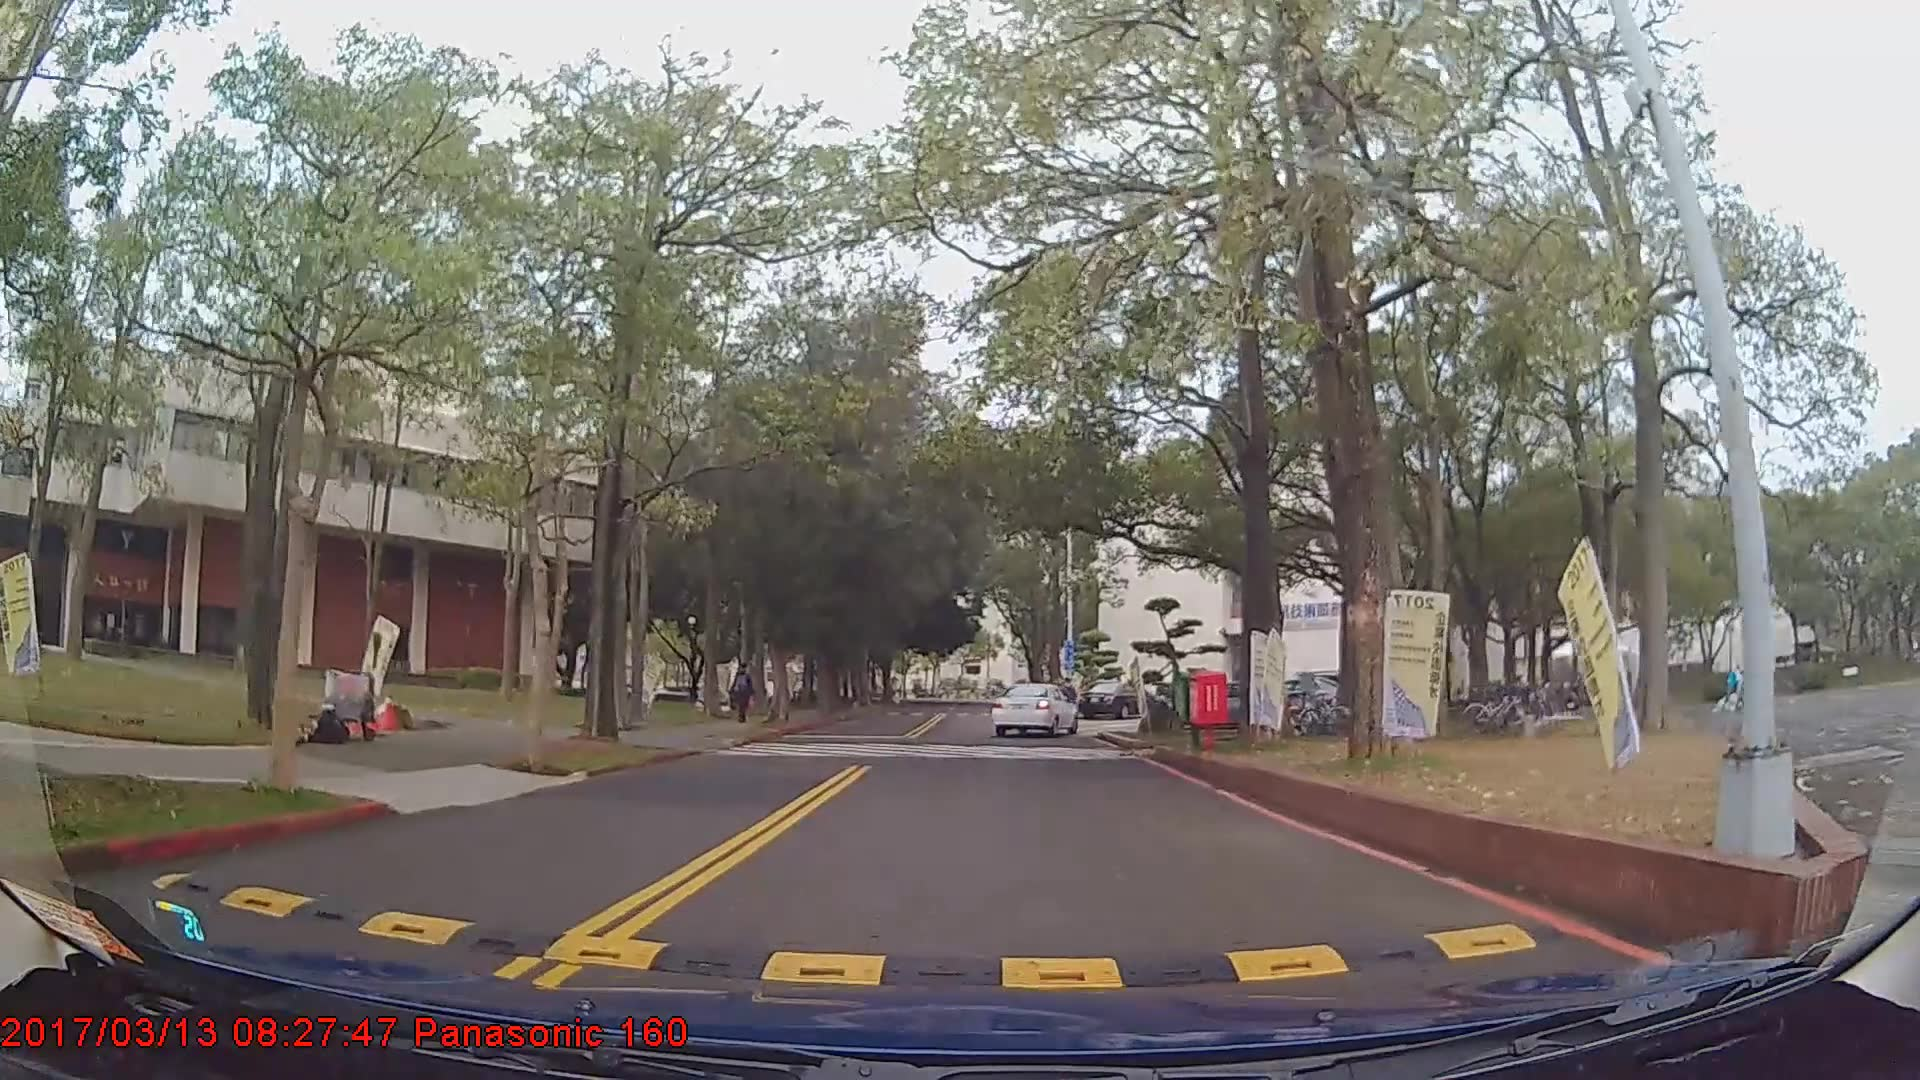pedestrian: (730, 664, 759, 726)
vehicle: (990, 680, 1078, 738), (1074, 680, 1151, 720)
